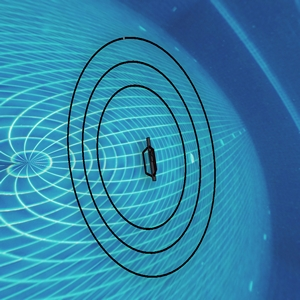circle: (48, 31, 240, 285)
submarine: (144, 141, 161, 181)
